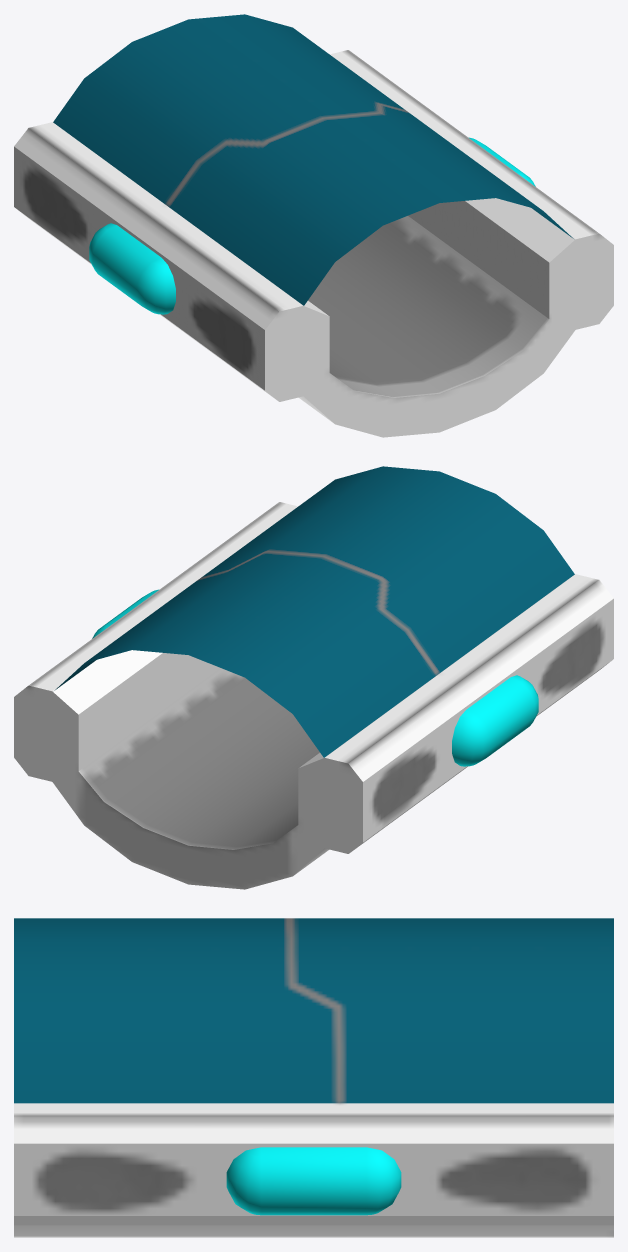
The model's file is Conveyor_1m.fbx.
The picture shows the model from 3 angles, top to bottom: view 1: azimuth 30°, elevation 25°; view 2: azimuth 150°, elevation 25°; view 3: azimuth 270°, elevation 25°; orthographic projection. The views are drawn at different scales.
Visible parts, largest first — view 1: Cube.306; view 2: Cube.306; view 3: Cube.306.
Part boxes in pixels (x1=…): Cube.306: x1=14, y1=14, x2=613, y2=437; Cube.306: x1=14, y1=466, x2=613, y2=889; Cube.306: x1=14, y1=918, x2=613, y2=1237.
Size of the model in its own units: 183 by 101 by 200.
